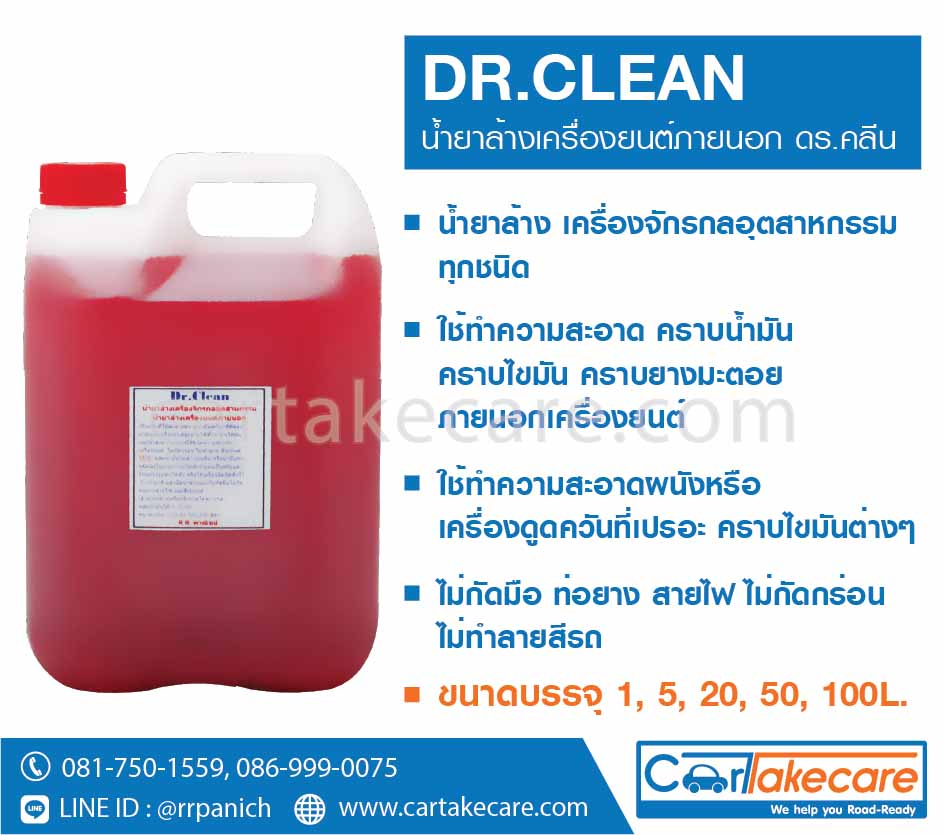Cleaning_solution: (15, 142, 389, 707)
